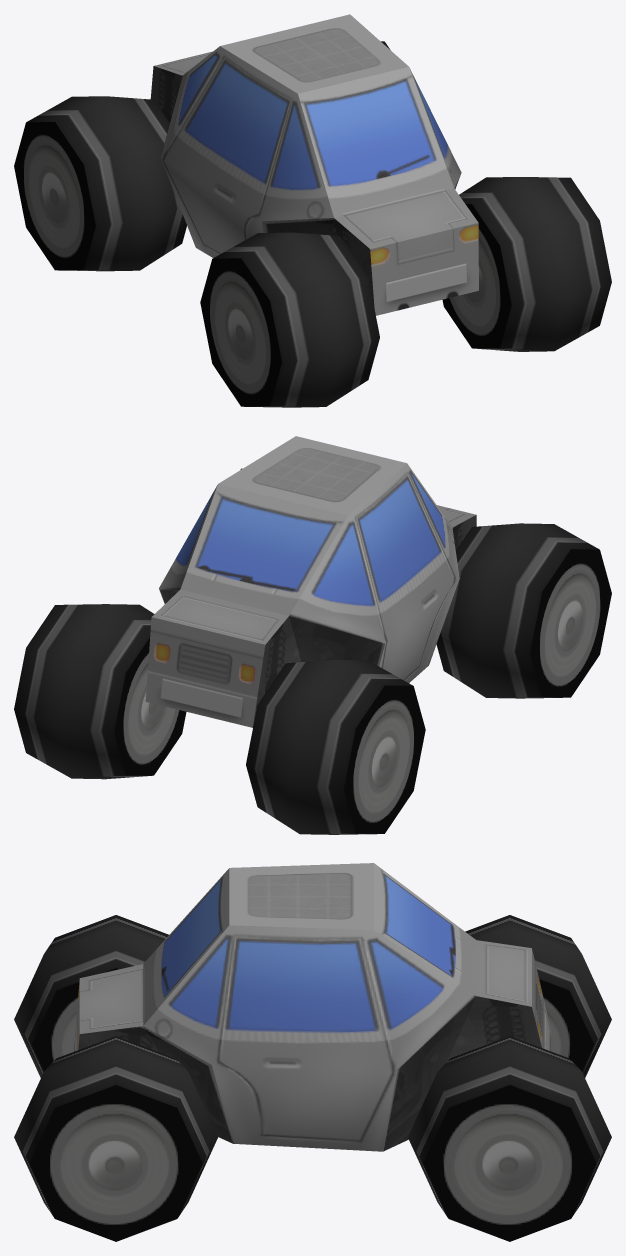
The model's file is oga_car_01.obj.
3 views of the same model, one above another, from view 1: azimuth 30°, elevation 25°; view 2: azimuth 150°, elevation 25°; view 3: azimuth 270°, elevation 25° (orthographic). The views are drawn at different scales.
Parts seen in each view (by area): view 1: car_Cylinder; view 2: car_Cylinder; view 3: car_Cylinder.
Boxes of the visible parts, x1,y1,x2,y2 form: car_Cylinder: (14, 14, 611, 407); car_Cylinder: (14, 436, 611, 834); car_Cylinder: (14, 863, 611, 1241).
Size of the model in its own units: 2.76 by 2.08 by 4.1.
1 material, 1 textured.
